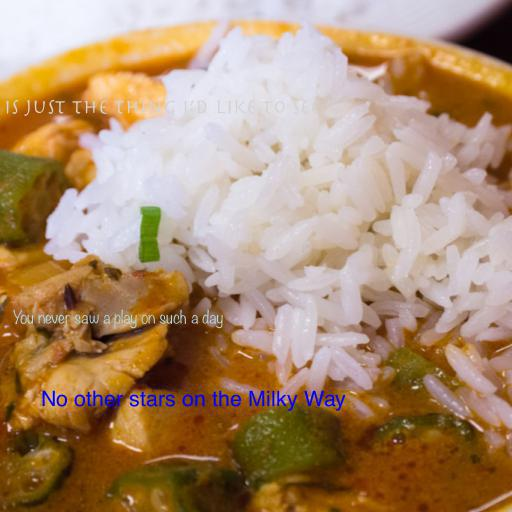Apple Chancery: (40, 390, 346, 411)
Herculanum: (3, 99, 335, 116)
Noteworthy: (13, 309, 223, 329)
